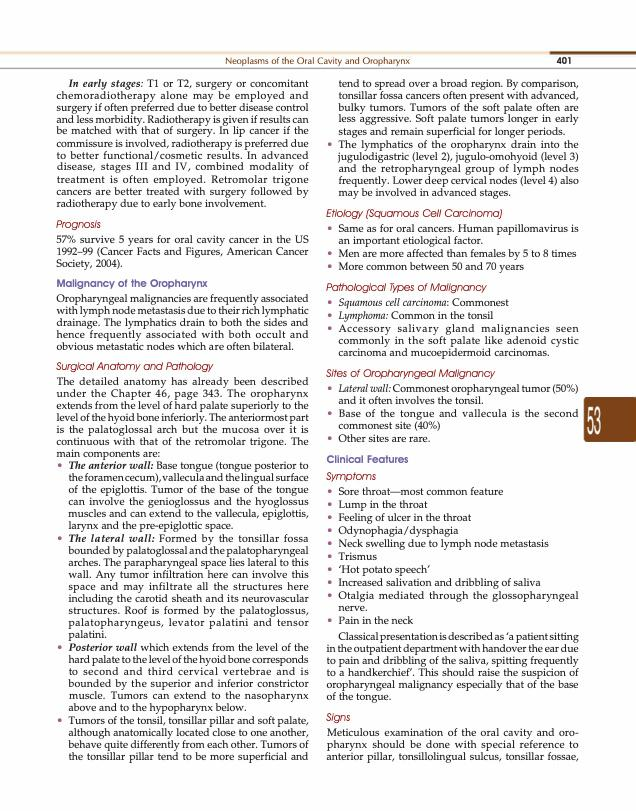header: (224, 56, 412, 67)
list: (326, 485, 580, 626), (326, 297, 580, 360), (326, 383, 579, 444), (326, 222, 580, 275)
sub-section-heading: (325, 207, 504, 221), (325, 367, 496, 380), (56, 277, 209, 290), (325, 282, 488, 294), (55, 361, 214, 373), (325, 453, 409, 465), (324, 470, 377, 483), (55, 219, 102, 231), (324, 711, 351, 724)
text: (56, 461, 311, 765), (55, 77, 310, 211), (327, 77, 580, 200), (56, 376, 309, 460), (325, 630, 580, 704), (56, 293, 310, 352), (55, 233, 310, 272), (326, 727, 580, 763)
